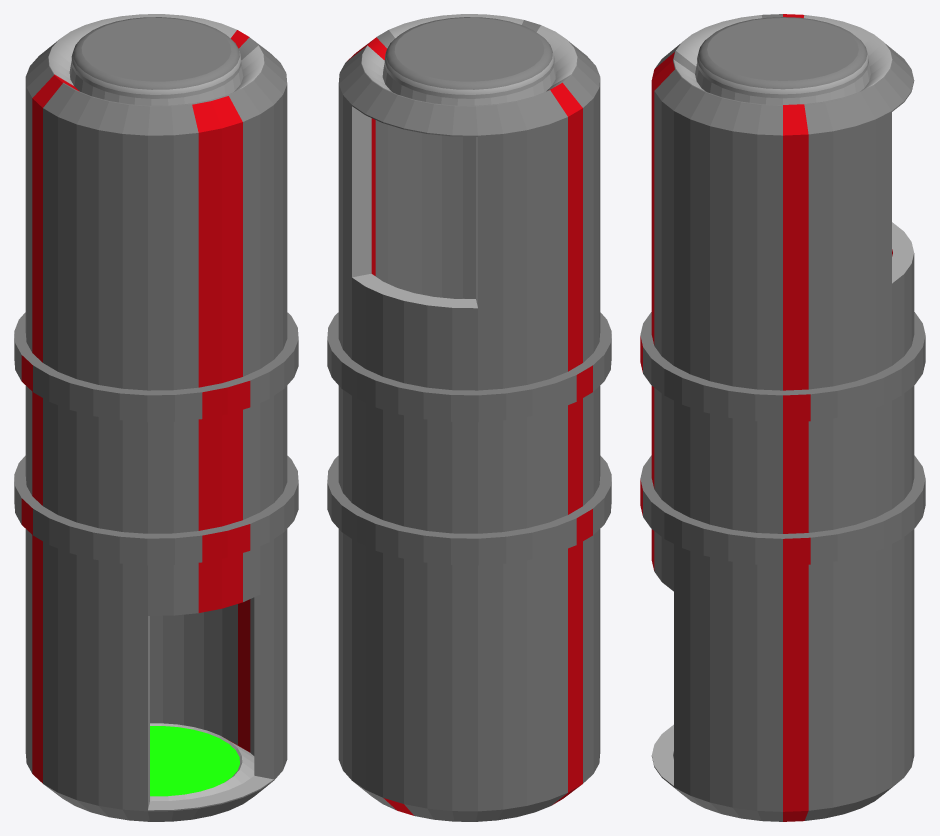
The model's file is LevitationTube.fbx.
3 renders of one model, left to right at view 1: azimuth 30°, elevation 25°; view 2: azimuth 150°, elevation 25°; view 3: azimuth 270°, elevation 25°, orthographic.
Visible parts, largest first — view 1: LevitationTubeBottom.001, LevitationTubeBottom, LevitationTube; view 2: LevitationTubeBottom.001, LevitationTubeBottom, LevitationTube; view 3: LevitationTubeBottom.001, LevitationTubeBottom, LevitationTube.
Part boxes in pixels (x1=…): LevitationTubeBottom.001: x1=25, y1=14, x2=287, y2=390; LevitationTubeBottom: x1=25, y1=529, x2=287, y2=821; LevitationTube: x1=14, y1=312, x2=298, y2=565; LevitationTubeBottom.001: x1=338, y1=14, x2=600, y2=390; LevitationTubeBottom: x1=338, y1=529, x2=600, y2=821; LevitationTube: x1=327, y1=298, x2=611, y2=565; LevitationTubeBottom.001: x1=651, y1=14, x2=914, y2=390; LevitationTubeBottom: x1=651, y1=529, x2=914, y2=821; LevitationTube: x1=640, y1=312, x2=925, y2=565.
Size of the model in its own units: 217 by 611 by 217.
